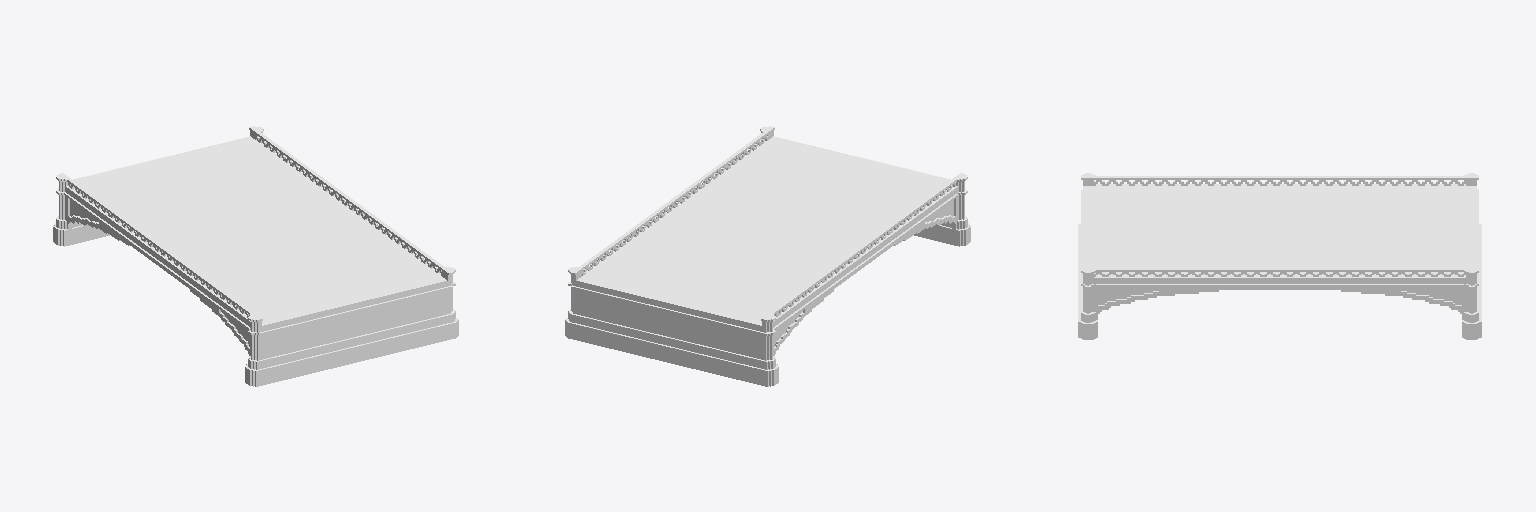
File: RD_Westminster_Bridge-1.obj
3 views of the same model, side by side, from view 1: azimuth 30°, elevation 25°; view 2: azimuth 150°, elevation 25°; view 3: azimuth 270°, elevation 25° (orthographic).
Visible parts, largest first — view 1: object 1; view 2: object 1; view 3: object 1.
Boxes of the visible parts, x1=… form: object 1: x1=53, y1=126, x2=458, y2=386; object 1: x1=565, y1=126, x2=970, y2=386; object 1: x1=1078, y1=173, x2=1481, y2=339.
Bounding box in the file's own units: 11 × 3.3 × 18.4.